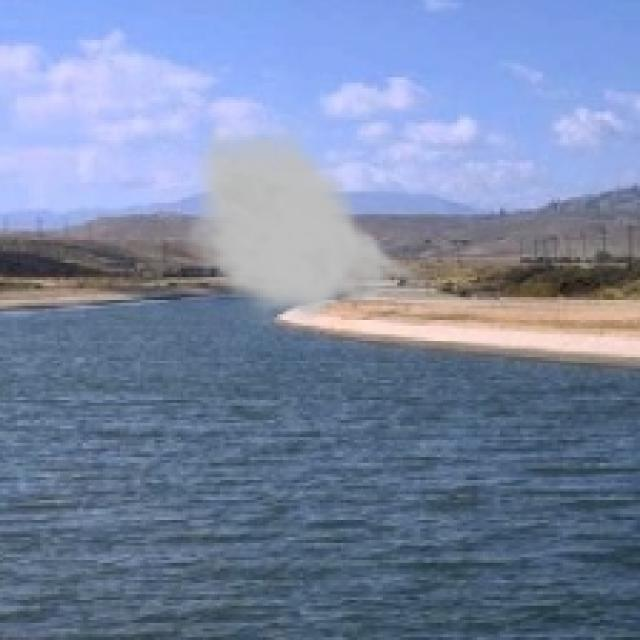Smoke: (182, 117, 438, 329)
